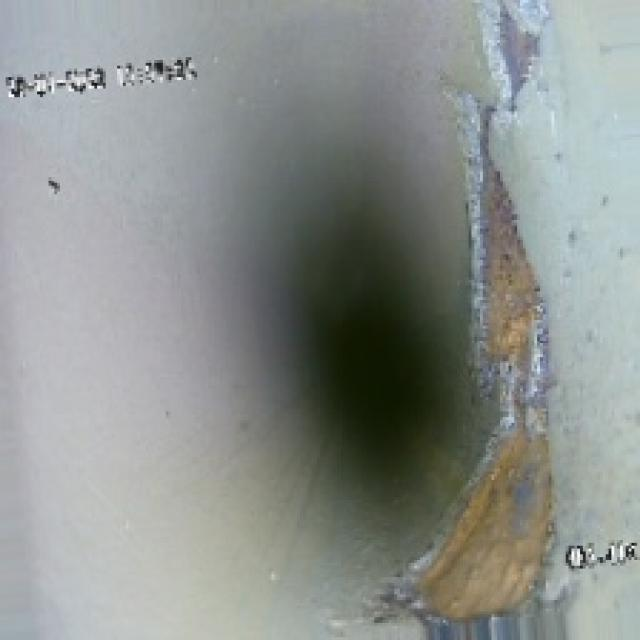pipe_surface_damage: (383, 89, 577, 637)
